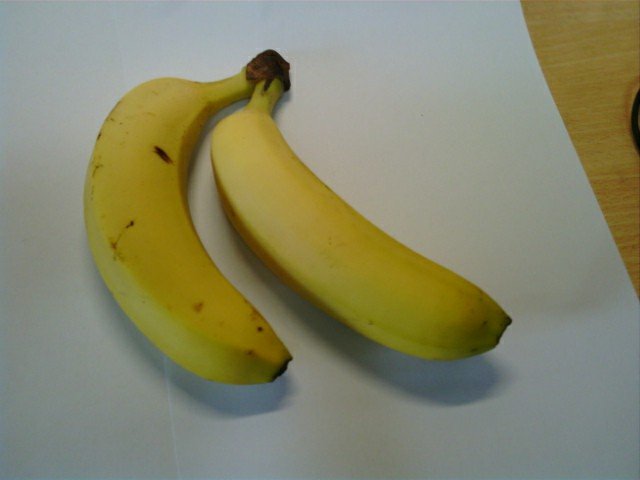fresh_banana: (210, 103, 512, 360)
normal_banana: (79, 74, 289, 387)
